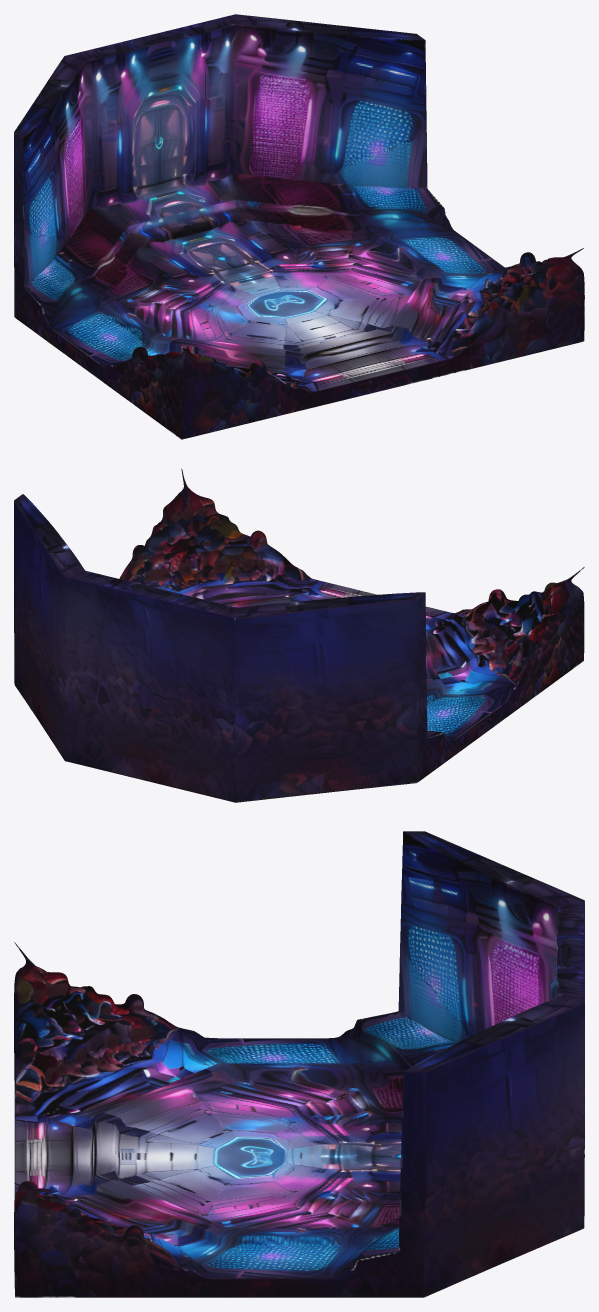
The model's file is base_basic_shaded.glb.
The picture shows the model from 3 angles, top to bottom: view 1: azimuth 30°, elevation 25°; view 2: azimuth 150°, elevation 25°; view 3: azimuth 270°, elevation 25°; orthographic projection. The views are drawn at different scales.
Parts seen in each view (by area): view 1: model; view 2: model; view 3: model.
Boxes of the visible parts, x1,y1,x2,y2 form: model: (14, 14, 584, 439); model: (14, 468, 584, 802); model: (14, 831, 584, 1297).
Bounding box in the file's own units: 1.9 × 0.8313 × 1.9.
Materials: 1 (1 with a texture image).
